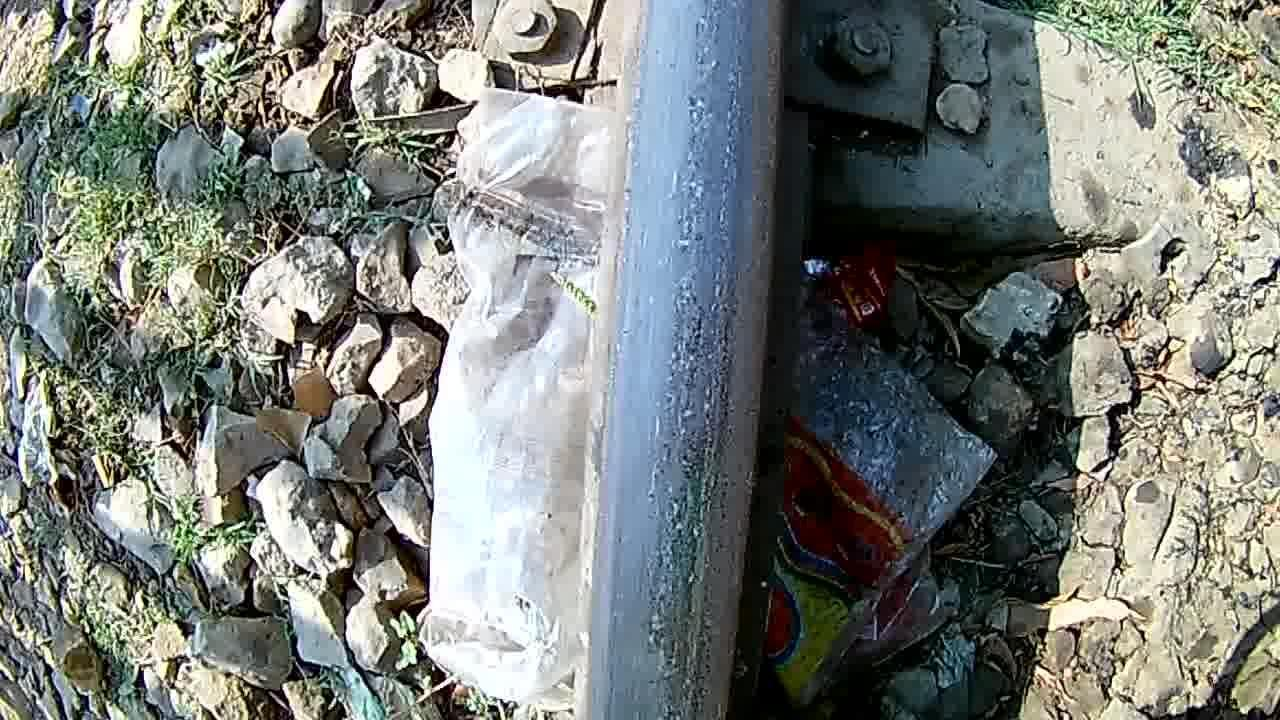crack: (620, 21, 756, 706)
